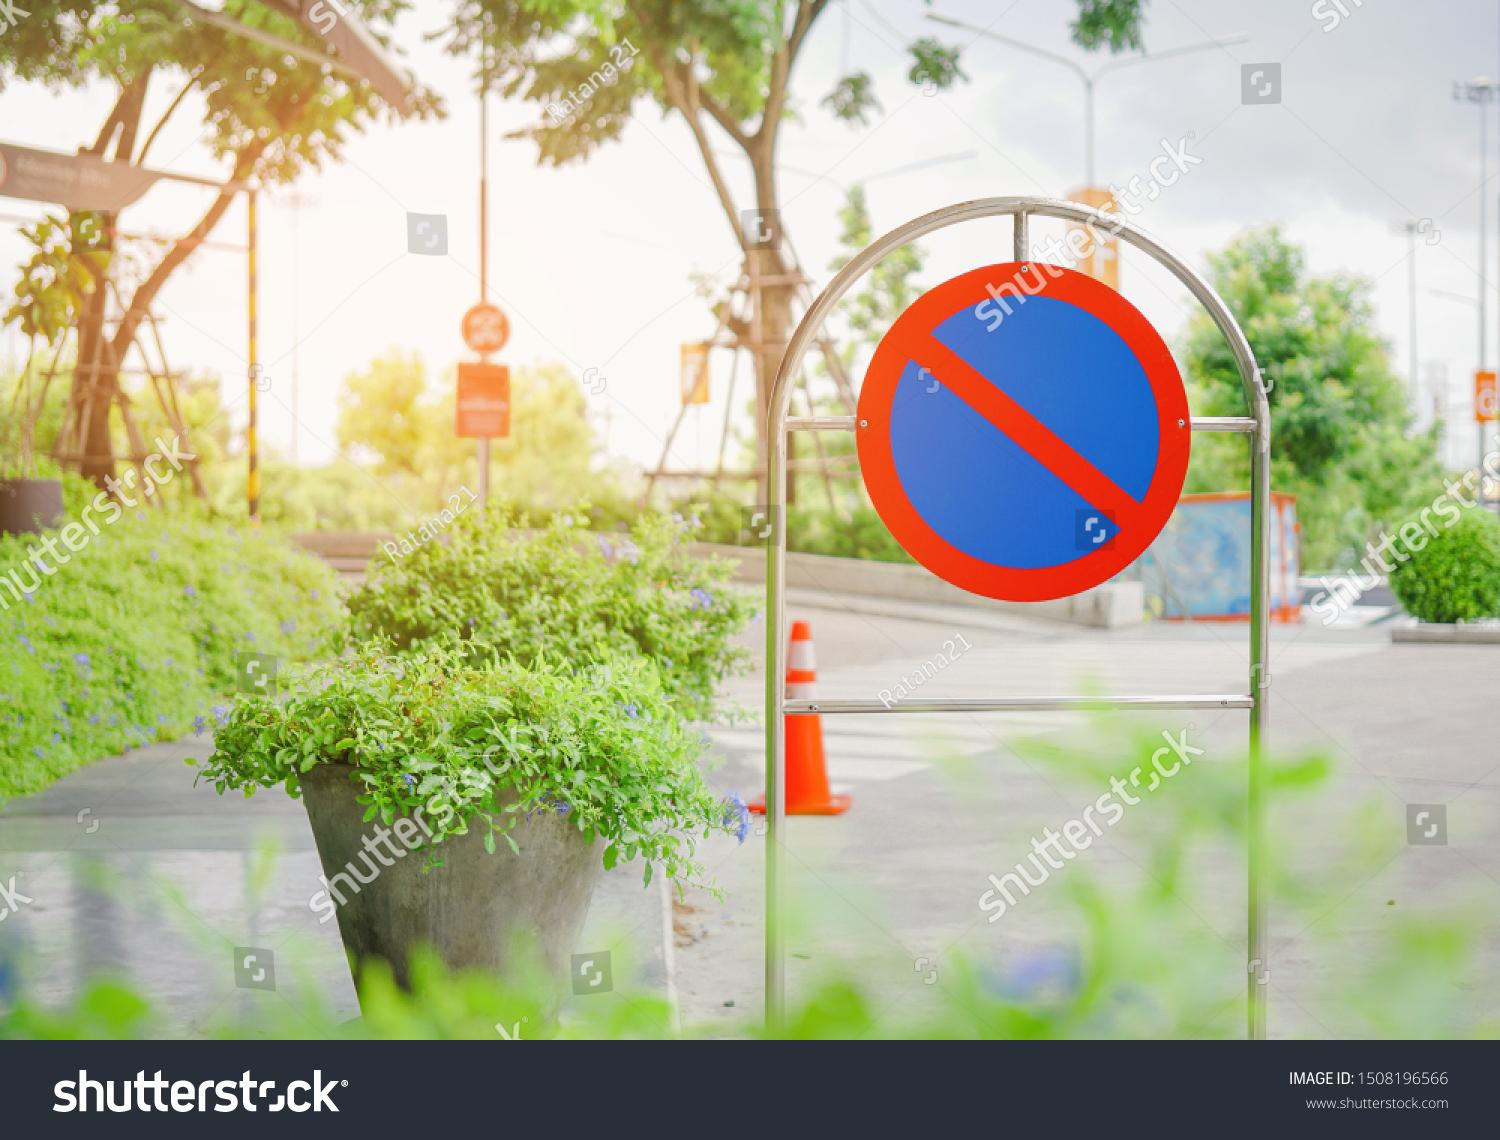No Parking: (848, 257, 1219, 631)
